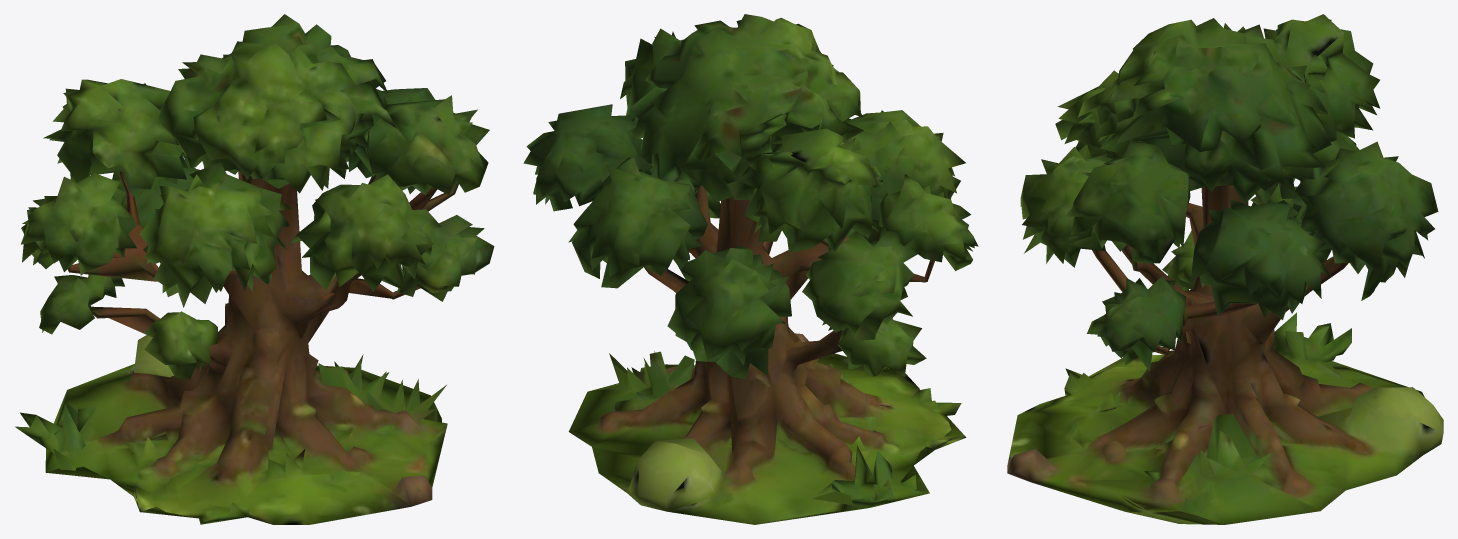
File: arvore.glb
The picture shows the model from 3 angles, left to right: view 1: azimuth 30°, elevation 25°; view 2: azimuth 150°, elevation 25°; view 3: azimuth 270°, elevation 25°; orthographic projection. The views are drawn at different scales.
Visible parts, largest first — view 1: tripo_node_1b1fa95f-a910-4c99-b454-0e1eb17bb9d0; view 2: tripo_node_1b1fa95f-a910-4c99-b454-0e1eb17bb9d0; view 3: tripo_node_1b1fa95f-a910-4c99-b454-0e1eb17bb9d0.
Boxes of the visible parts, x1,y1,x2,y2 form: tripo_node_1b1fa95f-a910-4c99-b454-0e1eb17bb9d0: (15, 14, 494, 524); tripo_node_1b1fa95f-a910-4c99-b454-0e1eb17bb9d0: (523, 14, 978, 524); tripo_node_1b1fa95f-a910-4c99-b454-0e1eb17bb9d0: (1007, 14, 1443, 524).
Size of the model in its own units: 0.9796 by 0.8798 by 0.8224.
1 material, 1 textured.
